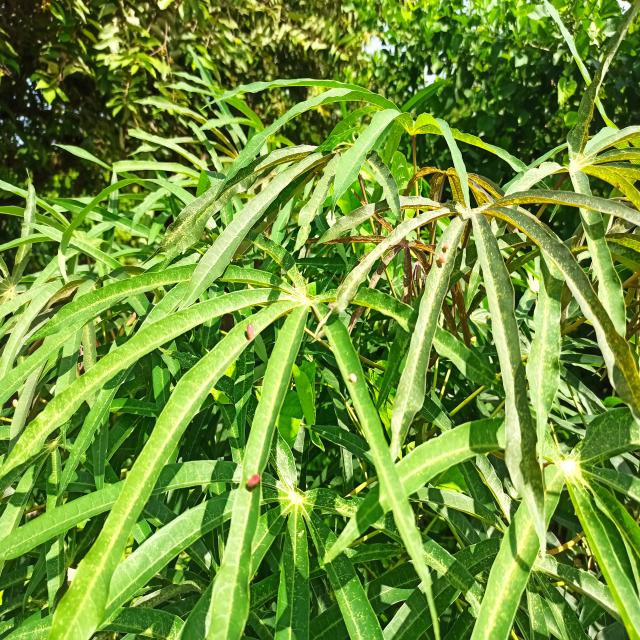Mosca: (117, 308, 147, 341), (429, 238, 453, 271), (242, 467, 266, 488), (240, 324, 258, 351), (341, 371, 362, 393)
